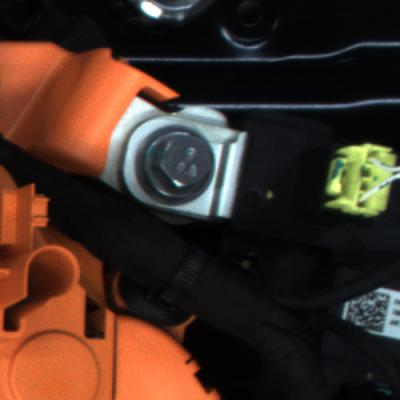nut_b: (133, 125, 236, 223)
